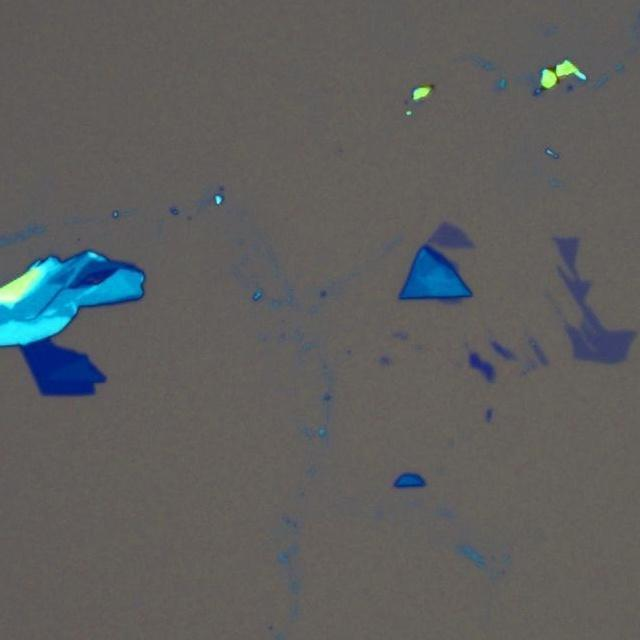monolayer-eWW4: (552, 229, 640, 366), (428, 218, 476, 250)
